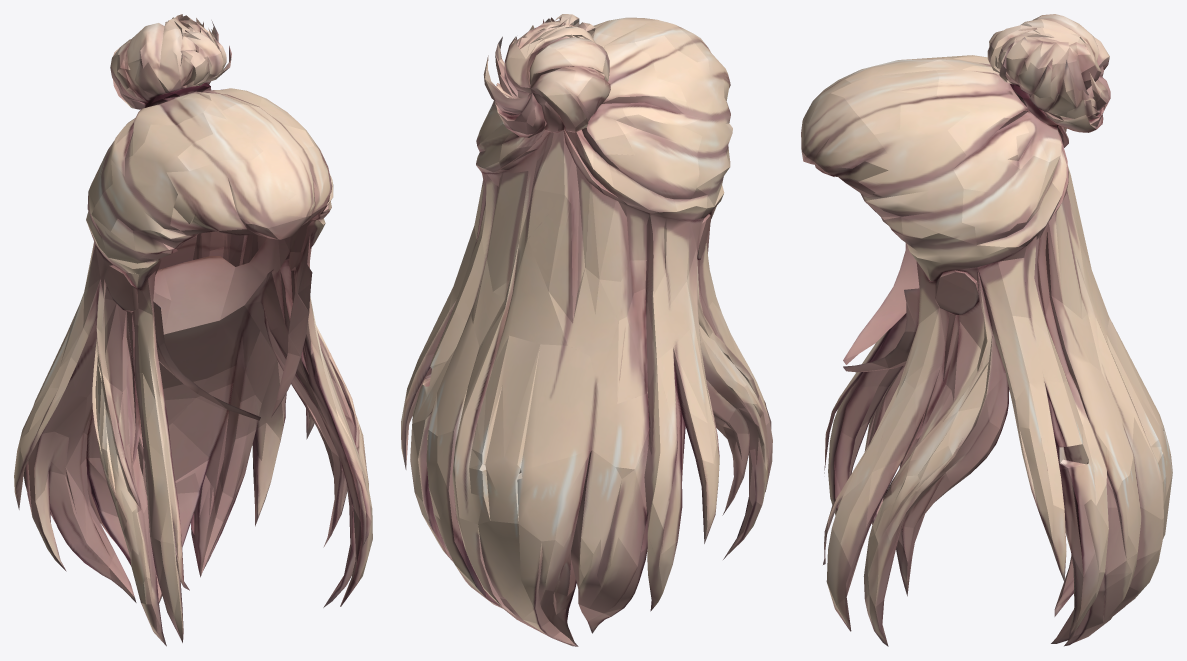
Rendered from fennal_f-chignon-haut.glb.
3 views of the same model, side by side, from view 1: azimuth 30°, elevation 25°; view 2: azimuth 150°, elevation 25°; view 3: azimuth 270°, elevation 25° (orthographic). The views are drawn at different scales.
Parts seen in each view (by area): view 1: geometry_0; view 2: geometry_0; view 3: geometry_0.
Boxes of the visible parts, left/top/right/bottom form: geometry_0: left=14, top=14, right=372, bottom=646; geometry_0: left=401, top=14, right=772, bottom=646; geometry_0: left=801, top=14, right=1172, bottom=646.
Bounding box in the file's own units: 1.02 × 1.9 × 1.01.
Materials: 1 (1 with a texture image).
